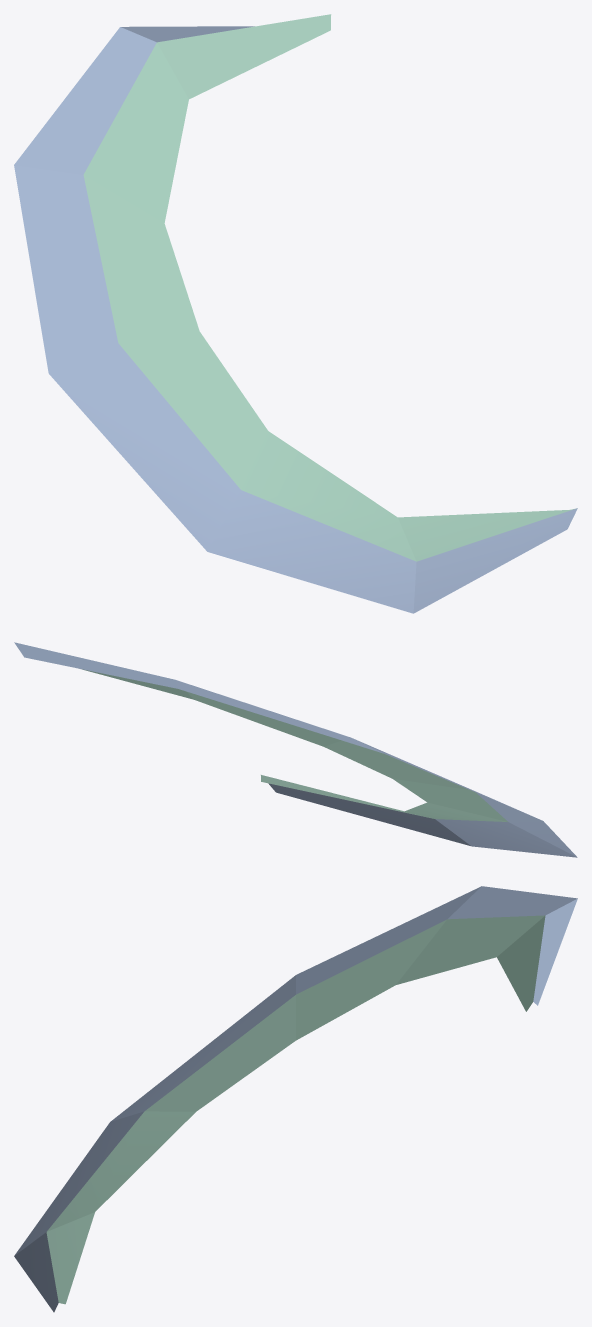
File: ripple-decal.glb
3 views of the same model, one above another, from view 1: azimuth 30°, elevation 25°; view 2: azimuth 150°, elevation 25°; view 3: azimuth 270°, elevation 25° (orthographic). The views are drawn at different scales.
Parts seen in each view (by area): view 1: root_mesh; view 2: root_mesh; view 3: root_mesh.
Boxes of the visible parts, x1,y1,x2,y2 form: root_mesh: [14, 14, 577, 613]; root_mesh: [14, 642, 577, 857]; root_mesh: [14, 886, 577, 1312].
Bounding box in the file's own units: 0.799 × 0.7 × 1.
